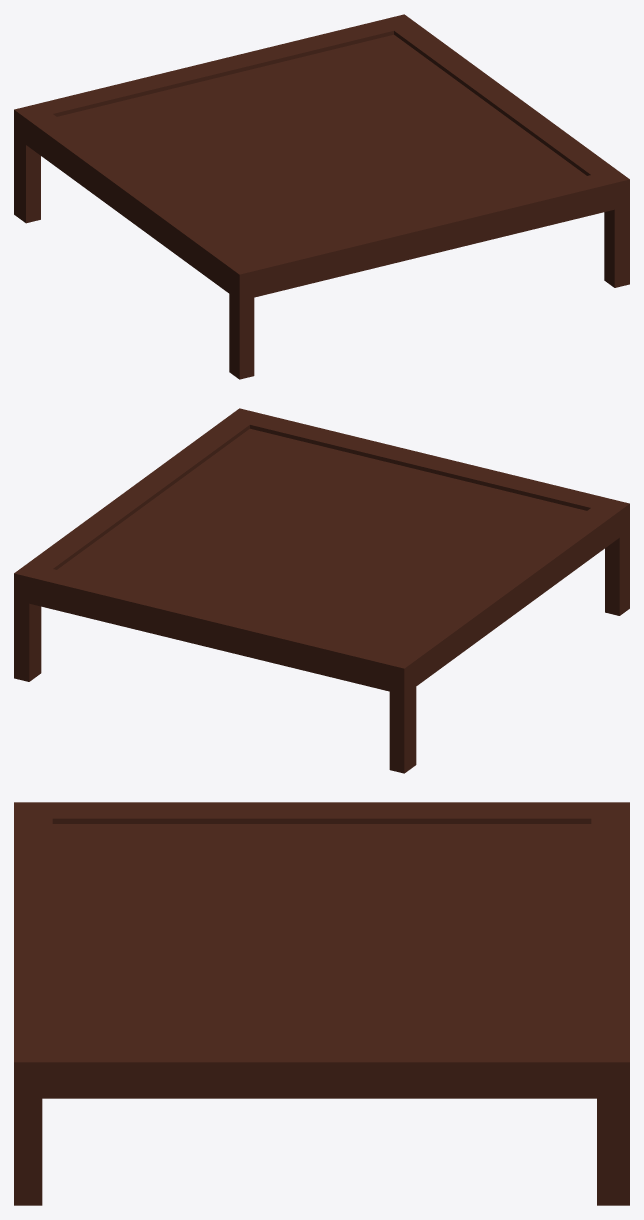
File: GarSmallTable.fbx
The picture shows the model from 3 angles, top to bottom: view 1: azimuth 30°, elevation 25°; view 2: azimuth 150°, elevation 25°; view 3: azimuth 270°, elevation 25°; orthographic projection. The views are drawn at different scales.
Visible parts, largest first — view 1: Table; view 2: Table; view 3: Table.
Part boxes in pixels (x1,y1,x2,y2): Table: (14,14,629,379); Table: (14,408,629,773); Table: (14,802,629,1205).
Bounding box in the file's own units: 79.96 × 20.55 × 80.
